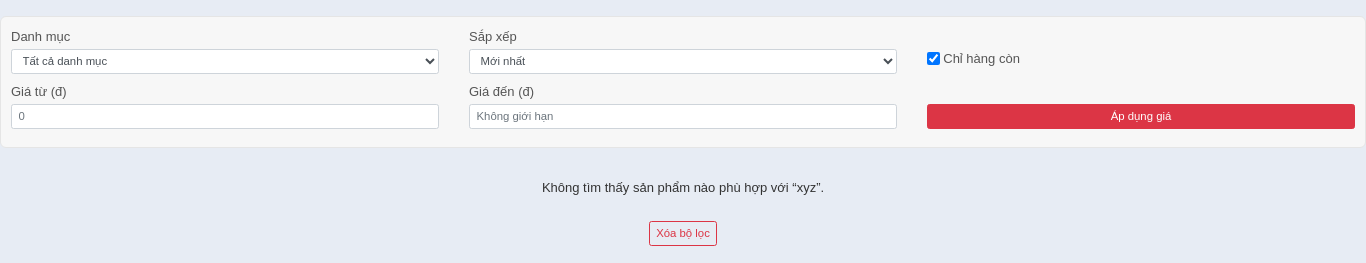
it: không có kết quả: thông báo rõ và nút xóa bộ lọc
Check: the text "Không tìm thấy sản phẩm nào phù hợp với “xyz”." is shown, box [542,180,824,195]
Click the button "Xóa bộ lọc" at (683, 233), box [649,221,717,246]
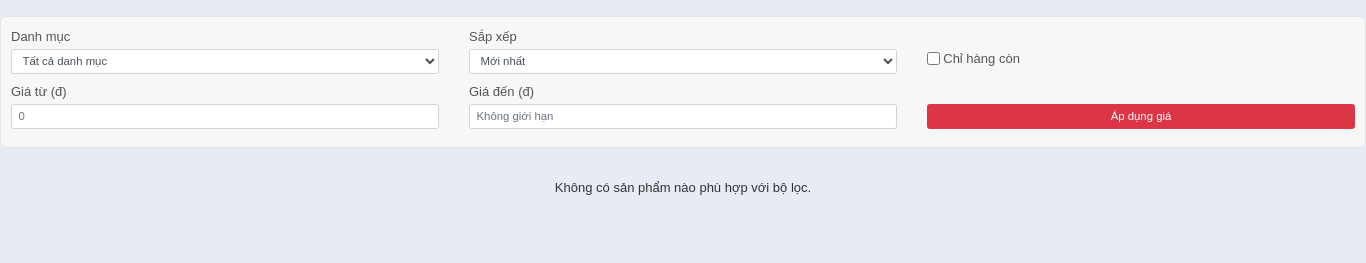
Check: the text "Không có sản phẩm nào phù hợp với bộ lọc." is shown, box [555,180,811,195]
